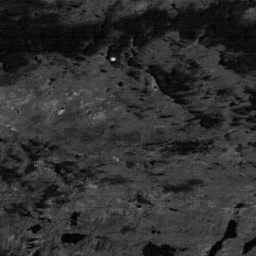Target: (109, 55, 117, 63)
